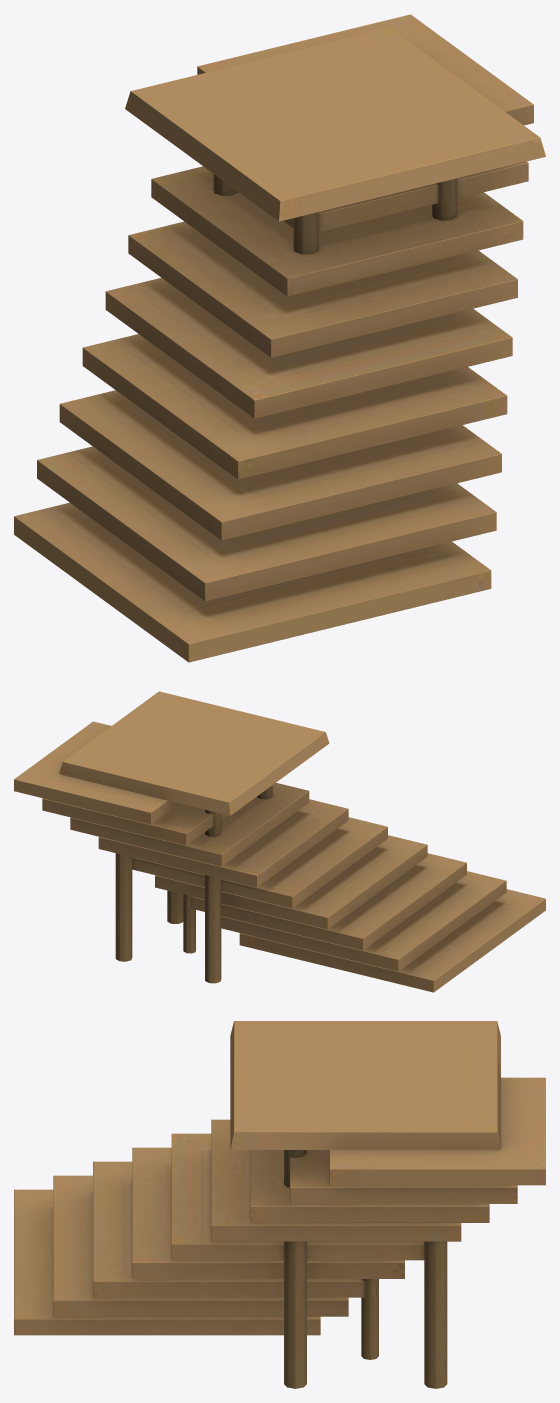
The model's file is BD_ramp_corner.glb.
3 views of the same model, one above another, from view 1: azimuth 30°, elevation 25°; view 2: azimuth 150°, elevation 25°; view 3: azimuth 270°, elevation 25° (orthographic). The views are drawn at different scales.
Parts seen in each view (by area): view 1: BD_ramp_corner; view 2: BD_ramp_corner; view 3: BD_ramp_corner.
Boxes of the visible parts, box(x1,y1,x2,y2) form: BD_ramp_corner: box(14, 14, 545, 662); BD_ramp_corner: box(14, 691, 545, 992); BD_ramp_corner: box(14, 1021, 545, 1388).
Size of the model in its own units: 2.95 by 1.7 by 2.95.
1 material, 1 textured.
